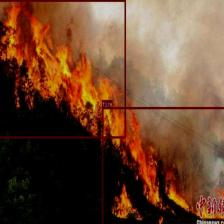fire: (0, 0, 125, 138), (102, 106, 224, 224)
